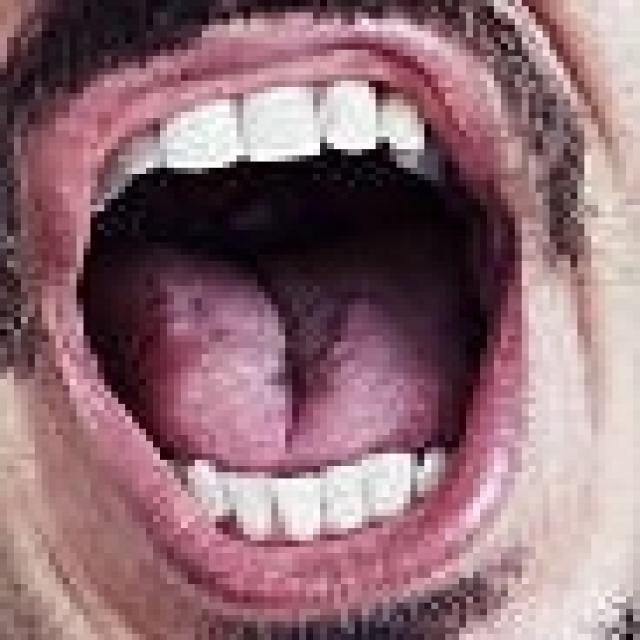open-mouth: (43, 24, 534, 595)
